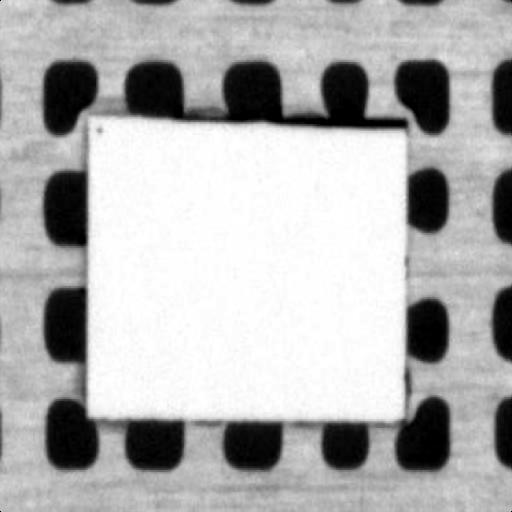DIE_INK: (94, 122, 104, 137)
